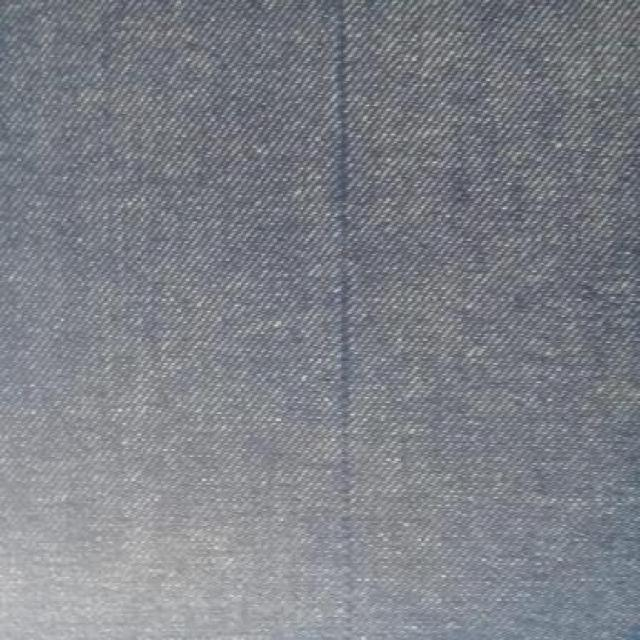pulled_or_thick_thread: (319, 0, 357, 503), (340, 514, 357, 588)
